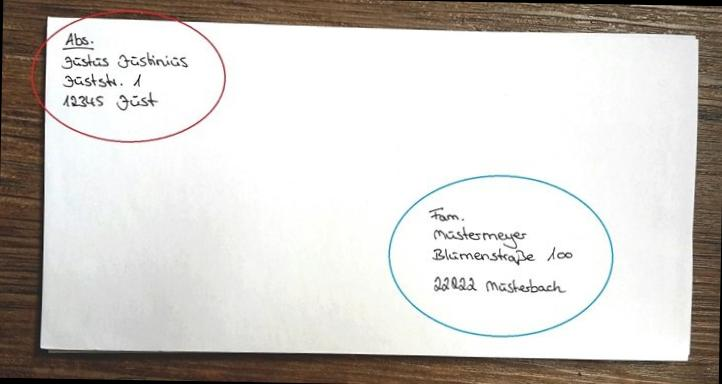text: (429, 243, 575, 268), (61, 48, 191, 73), (432, 276, 568, 298), (61, 88, 160, 114), (430, 225, 528, 251), (62, 70, 143, 90), (426, 206, 466, 225), (64, 32, 96, 50)
